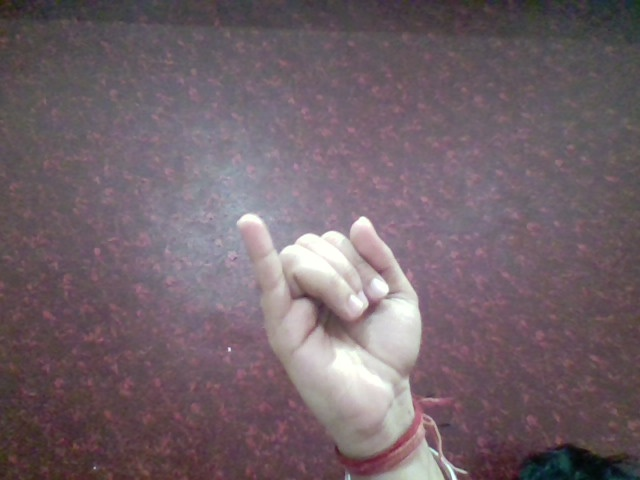j: (229, 199, 448, 414)
